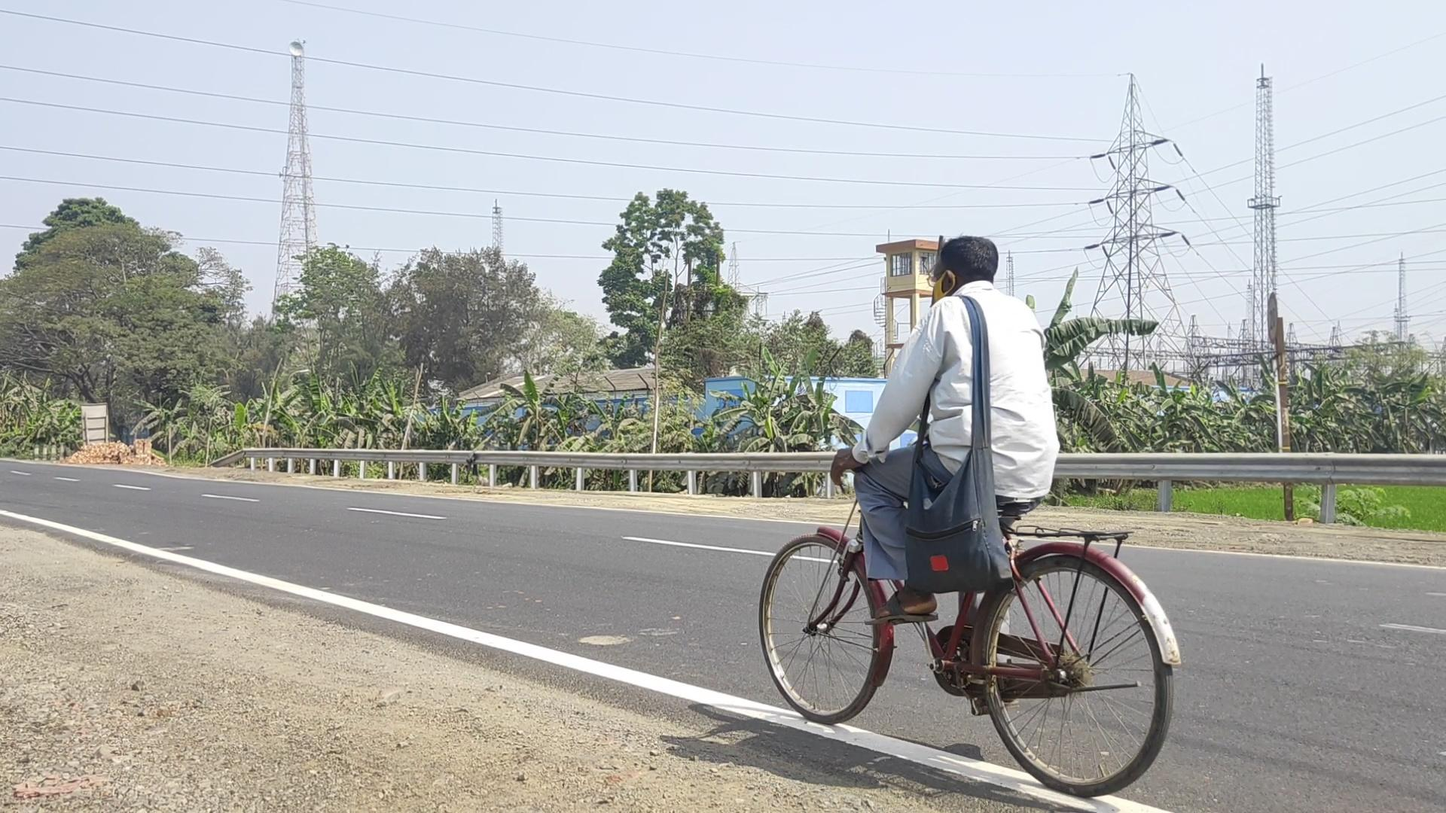bike: (758, 237, 1182, 798)
